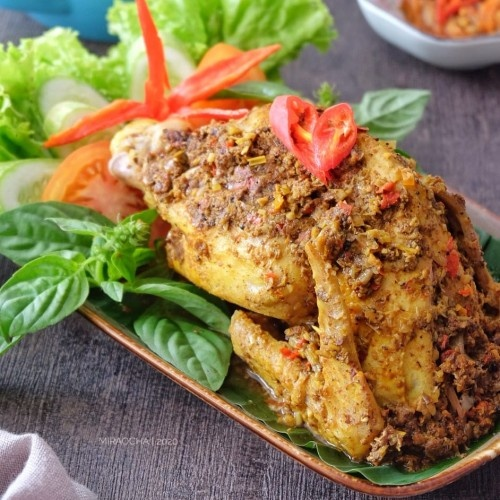ayam_betutu: (111, 123, 500, 460)
